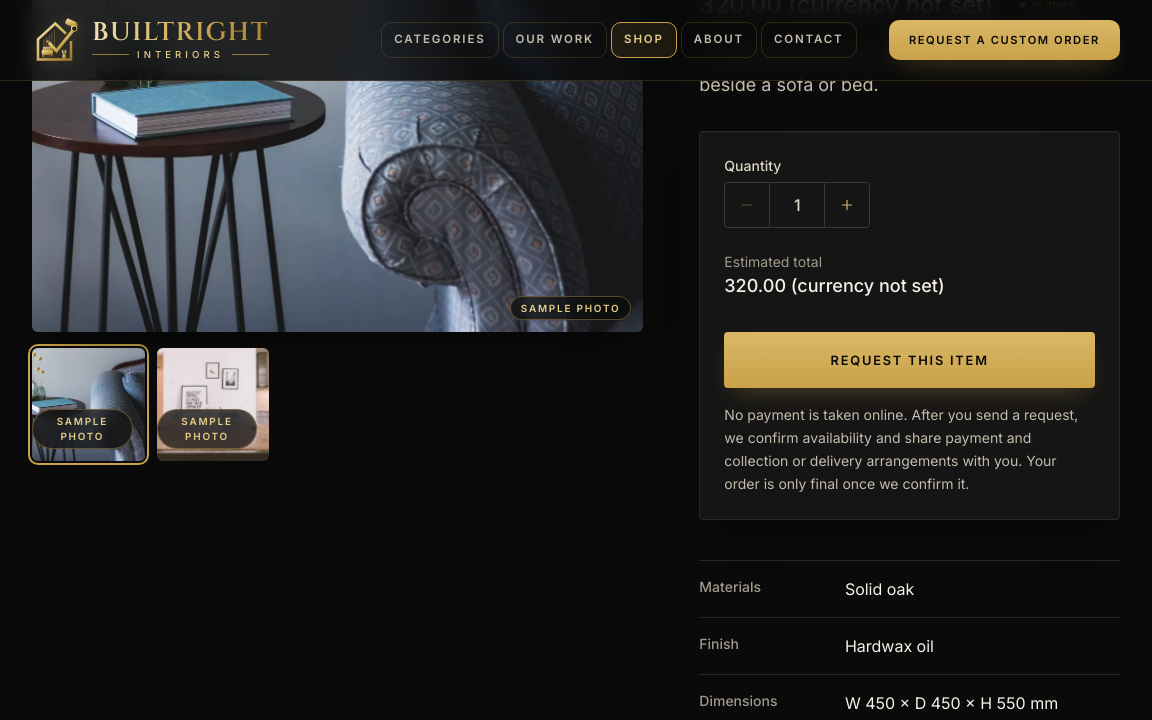
public routes › shows an honest not-connected notice instead of a fake order confirmation
(page scrolled)
Click the button "Request This Item": (910, 360) [724,332,1095,388]
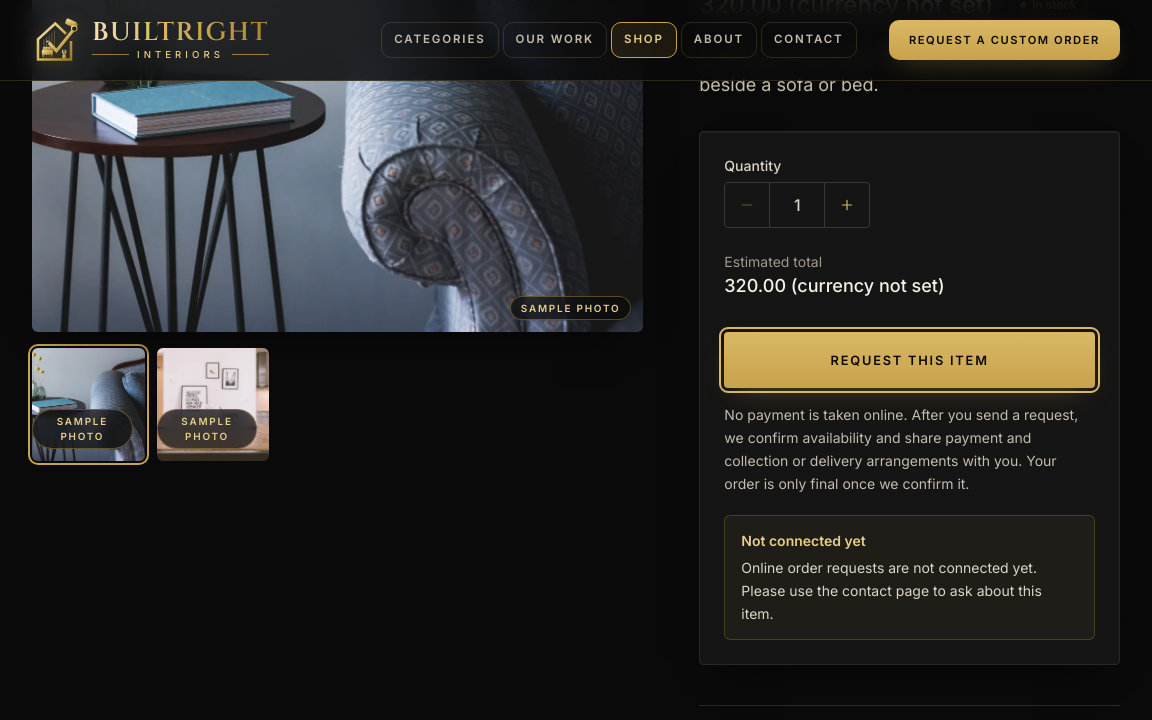
Check: the text "Not connected yet" is shown, box [741,532,866,549]
